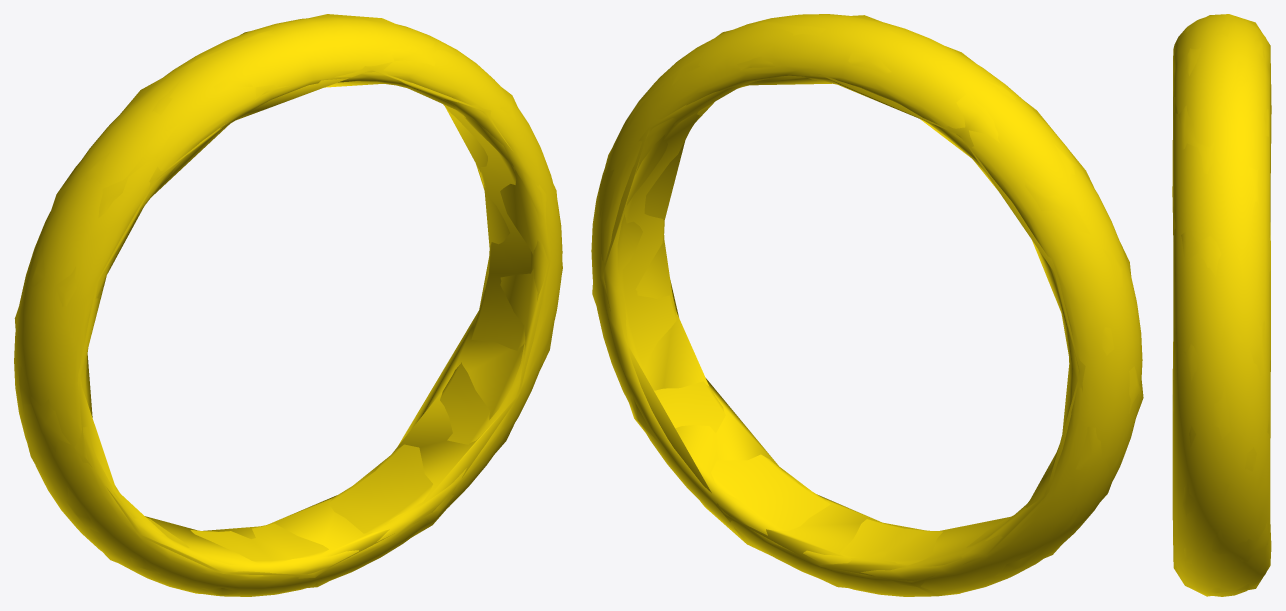
File: GLR-D000559282.glb
3 views of the same model, side by side, from view 1: azimuth 30°, elevation 25°; view 2: azimuth 150°, elevation 25°; view 3: azimuth 270°, elevation 25° (orthographic). The views are drawn at different scales.
Parts seen in each view (by area): view 1: highPolyMesh, lowPolyMesh; view 2: highPolyMesh, lowPolyMesh; view 3: highPolyMesh, lowPolyMesh.
Boxes of the visible parts, x1,y1,x2,y2 form: highPolyMesh: [14, 17, 562, 596]; lowPolyMesh: [14, 14, 562, 595]; highPolyMesh: [591, 14, 1142, 596]; lowPolyMesh: [592, 15, 1143, 596]; highPolyMesh: [1173, 14, 1270, 596]; lowPolyMesh: [1172, 14, 1271, 596].
Bounding box in the file's own units: 0.0211 × 0.021 × 0.00355.
